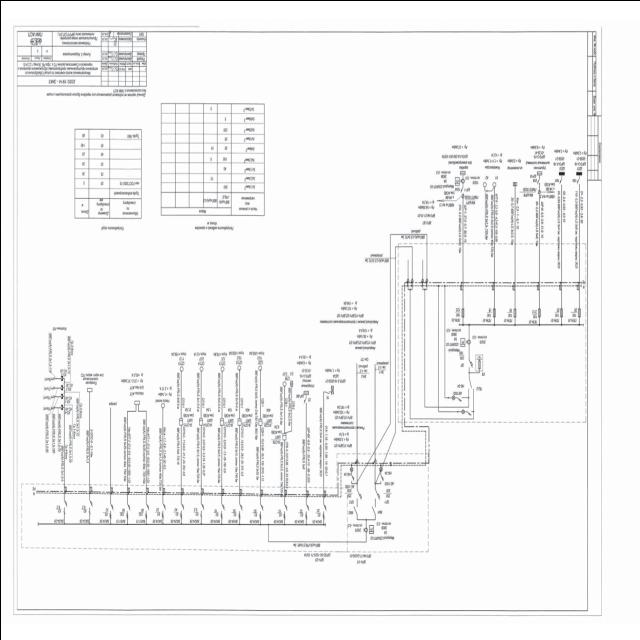-: (369, 520, 394, 540), (346, 522, 362, 532), (348, 552, 370, 558), (343, 487, 352, 497), (383, 488, 391, 498), (343, 482, 354, 488), (384, 480, 394, 486), (383, 470, 391, 475), (342, 471, 350, 476)
AVR: (353, 504, 375, 516)
HL: (348, 466, 352, 471), (378, 466, 382, 471)
QF: (356, 488, 362, 501), (373, 489, 379, 501), (349, 474, 354, 482), (379, 474, 383, 482)
TT: (362, 526, 368, 532)
WH: (368, 524, 373, 534)
